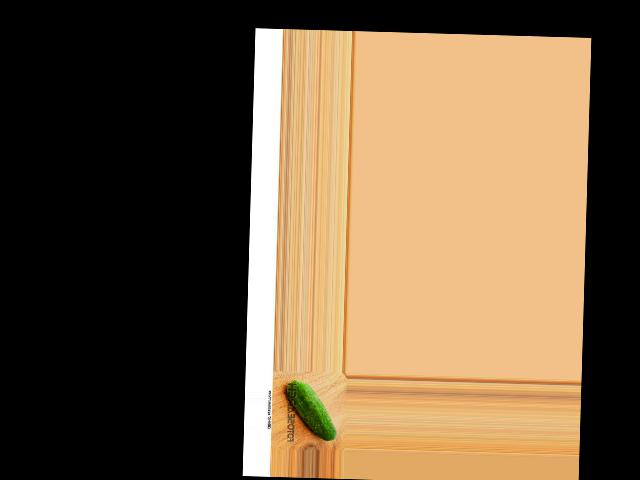cucumber: (284, 378, 338, 441)
